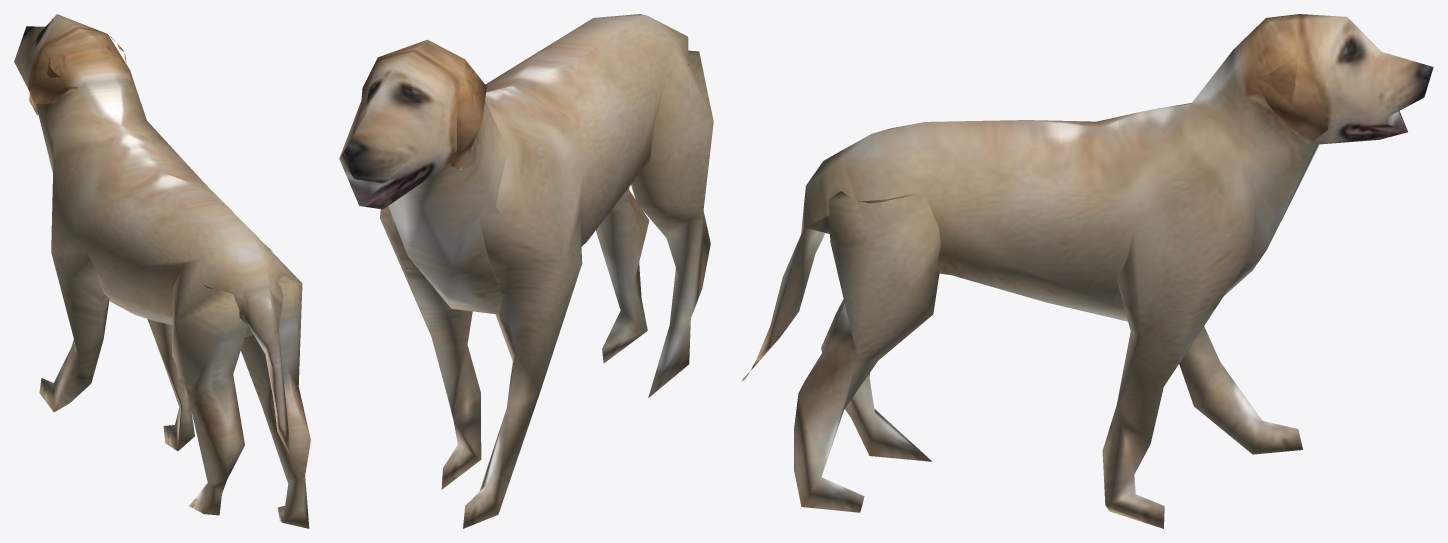
The model's file is dog_lab_lo.glb.
The picture shows the model from 3 angles, left to right: view 1: azimuth 30°, elevation 25°; view 2: azimuth 150°, elevation 25°; view 3: azimuth 270°, elevation 25°; orthographic projection. The views are drawn at different scales.
Visible parts, largest first — view 1: dog_lab_lo; view 2: dog_lab_lo; view 3: dog_lab_lo.
Boxes of the visible parts, <box> form: dog_lab_lo: <box>14,14,310,528</box>; dog_lab_lo: <box>339,14,713,528</box>; dog_lab_lo: <box>742,14,1433,528</box>.
Bounding box in the file's own units: 0.2649 × 0.7181 × 0.9185.
1 material, 1 textured.
